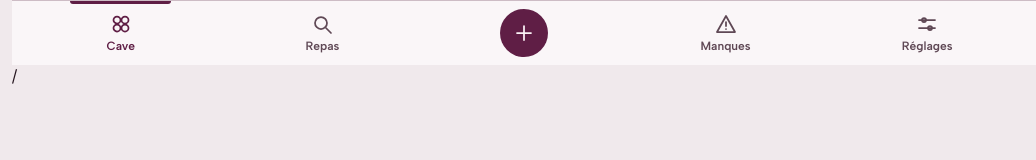
Test: BottomNav › navigue dans l’application sans recharger la page
Step 1. Click the link "Repas" → [322, 32], box [306,12,339,53]
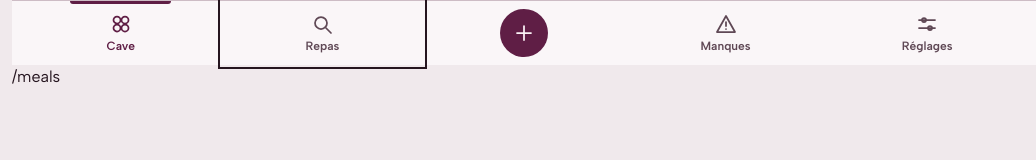
Now the text named "Adresse" reads "/meals", box [12,67,60,86]
